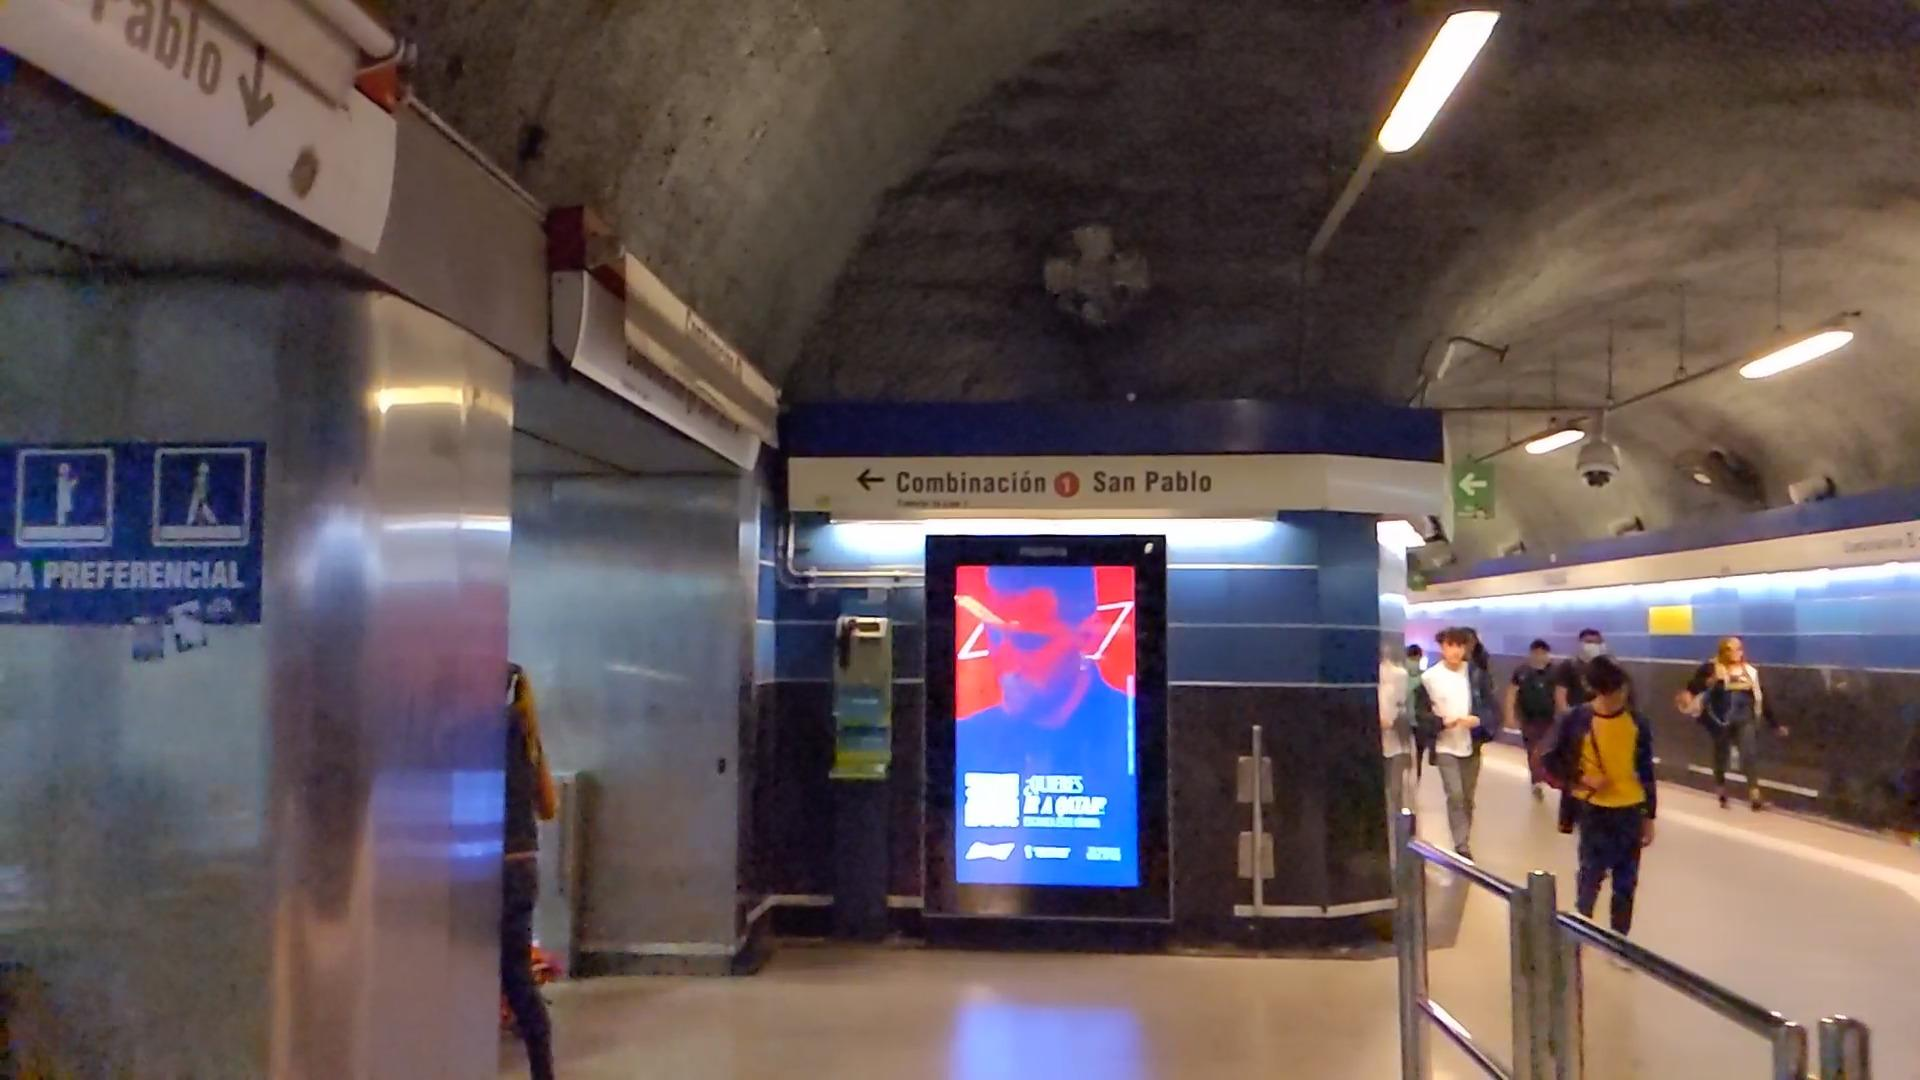left arrow: (856, 467, 886, 493)
